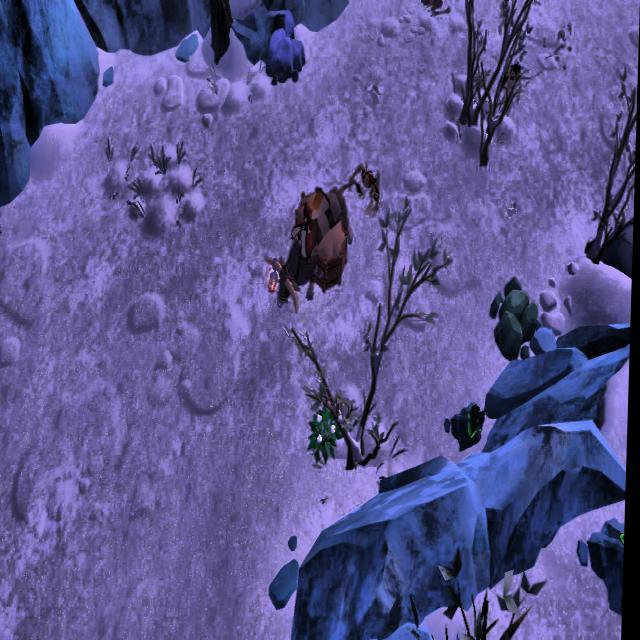enemy_factionUndead: (351, 158, 387, 222), (496, 62, 533, 120)
fiber_t3: (309, 404, 345, 465)
ore_t3: (468, 400, 490, 448)
rock_t3: (490, 271, 546, 362)
